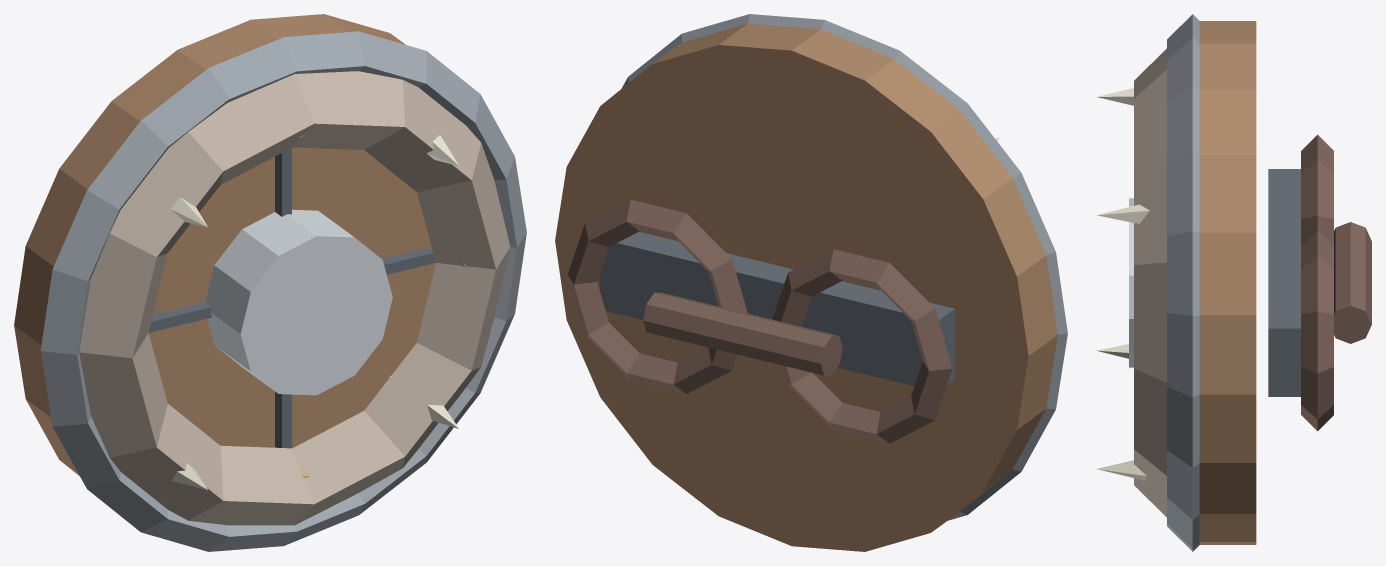
Rendered from barbarian_round_shield.glb.
3 views of the same model, side by side, from view 1: azimuth 30°, elevation 25°; view 2: azimuth 150°, elevation 25°; view 3: azimuth 270°, elevation 25° (orthographic). The views are drawn at different scales.
Parts seen in each view (by area): view 1: FurCollar, ShieldBody.001, IronRim.001, CentralBoss.001, PlankSeam_0.001, PlankSeam_1.001; view 2: ShieldBody.001, BackReinforcement.001, BackStrap_0.001, BackStrap_-0.001, HandGrip.001, IronRim.001; view 3: ShieldBody.001, IronRim.001, FurCollar, BackReinforcement.001, BackStrap_0.001, HandGrip.001, BackStrap_-0.001, CentralBoss.001, BoneTusk_0, BoneTusk_3, BoneTusk_1.
Boxes of the visible parts, <box> form: FurCollar: <box>79,71,510,525</box>; ShieldBody.001: <box>14,14,435,476</box>; IronRim.001: <box>40,31,526,551</box>; CentralBoss.001: <box>205,209,392,395</box>; PlankSeam_0.001: <box>275,148,291,448</box>; PlankSeam_1.001: <box>148,246,435,332</box>; ShieldBody.001: <box>555,23,1057,551</box>; BackReinforcement.001: <box>599,232,954,386</box>; BackStrap_0.001: <box>567,199,747,394</box>; BackStrap_-0.001: <box>772,249,952,443</box>; HandGrip.001: <box>643,292,842,375</box>; IronRim.001: <box>621,14,1067,520</box>; ShieldBody.001: <box>1199,21,1256,544</box>; IronRim.001: <box>1167,14,1199,551</box>; FurCollar: <box>1134,48,1166,517</box>; BackReinforcement.001: <box>1268,169,1300,396</box>; BackStrap_0.001: <box>1301,230,1333,431</box>; HandGrip.001: <box>1334,222,1371,343</box>; BackStrap_-0.001: <box>1301,134,1333,246</box>; CentralBoss.001: <box>1129,198,1133,367</box>; BoneTusk_0: <box>1097,204,1149,223</box>; BoneTusk_3: <box>1097,460,1146,480</box>; BoneTusk_1: <box>1097,88,1133,105</box>.
Bounding box in the file's own units: 1.15 × 1.15 × 0.585.
